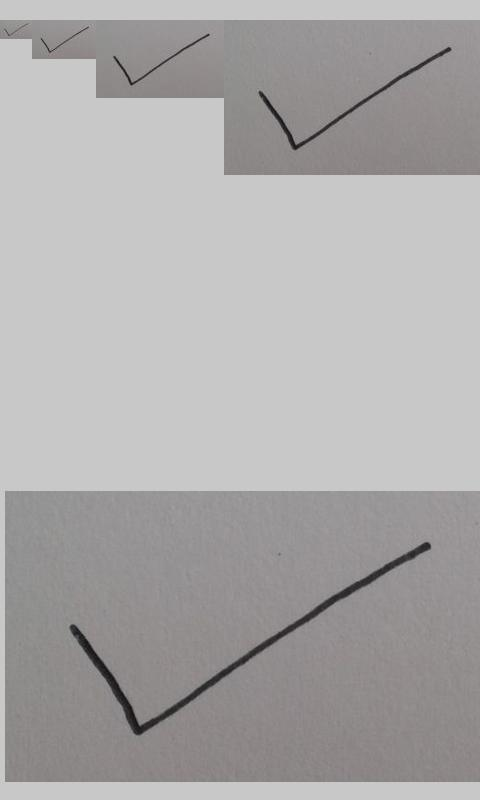check_box: (69, 541, 431, 736), (258, 47, 451, 150), (113, 33, 210, 86), (41, 26, 88, 53), (4, 23, 28, 36)
